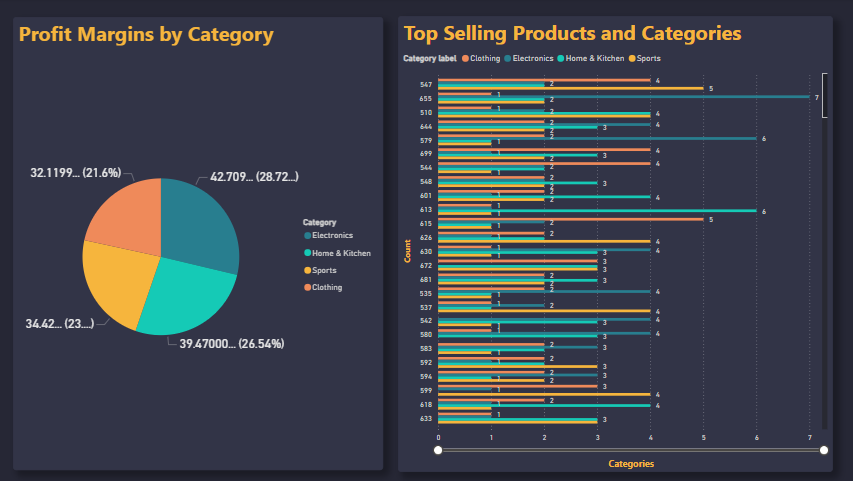

What the dashboard file says about the page in this screenshot:
{"tool":"powerbi","page":{"name":"Top-Selling Products and Categories","canvas":[1280,720],"ordinal":1},"visuals":[{"type":"clusteredBarChart","title":"Top Selling Products and Categories","fields":{"Y":["CountNonNull(Sheet1.Product)"],"Category":["Sheet1.Sales_Amount"],"Series":["Sheet1.Category"]},"box":[592.2,26.4,639.2,670],"z":0},{"type":"pieChart","title":"Profit Margins by Category","fields":{"Category":["Sheet1.Category"],"Y":["Sum(Sheet1.Profit_Margin)"]},"box":[35.3,27.9,534.9,665.6],"z":1}]}

Visuals, with their boxes in screenshot pixels (x1, y1, x2, y2), scaled from the page's 1280x720 canvas onto the 853x481 screenshot:
"Top Selling Products and Categories" clusteredBarChart: <bbox>395, 18, 821, 465</bbox>
"Profit Margins by Category" pieChart: <bbox>24, 19, 380, 463</bbox>
